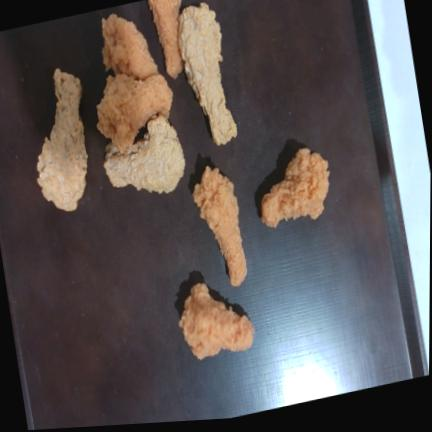chicken: (179, 2, 237, 145), (37, 68, 87, 210), (193, 166, 247, 286), (104, 115, 185, 193), (98, 73, 173, 154), (180, 283, 253, 359), (102, 13, 159, 79), (148, 0, 184, 78)
